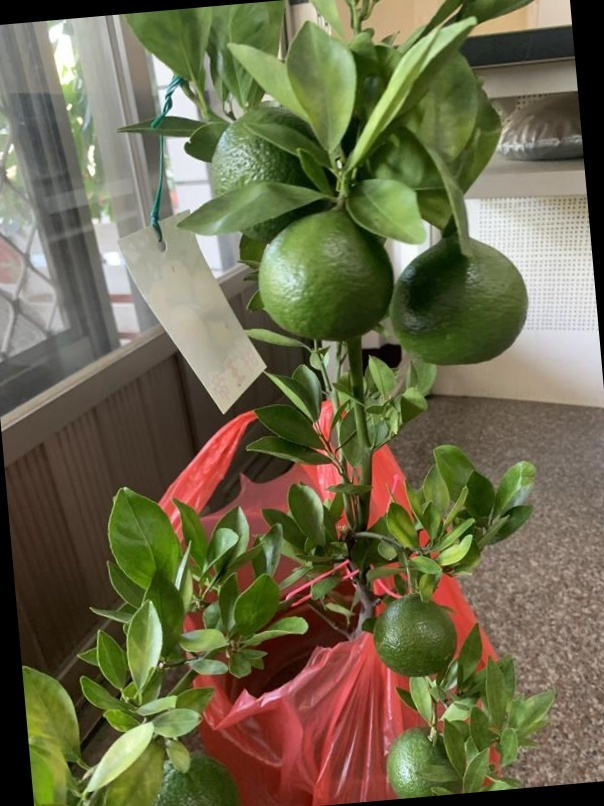Tangerine: (390, 229, 530, 366), (259, 202, 393, 336), (375, 587, 459, 677)
